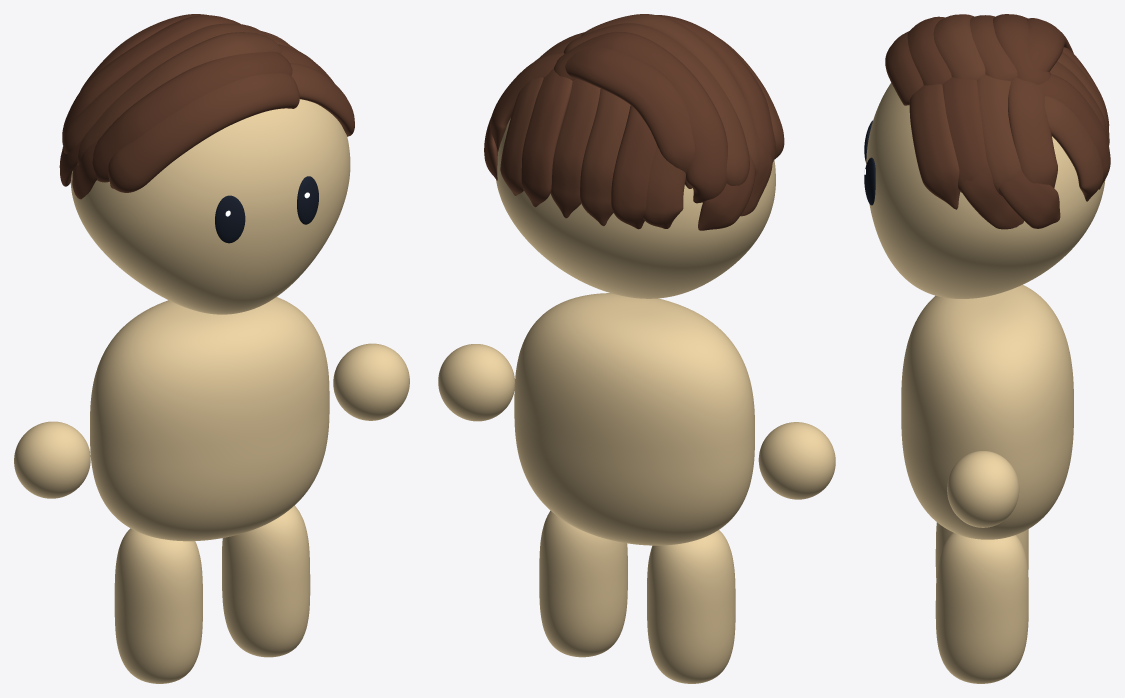
The model's file is Masculine-skin1.glb.
The picture shows the model from 3 angles, left to right: view 1: azimuth 30°, elevation 25°; view 2: azimuth 150°, elevation 25°; view 3: azimuth 270°, elevation 25°; orthographic projection.
Parts seen in each view (by area): view 1: Skin / compact torso, Skin / soft oval head, Skin / leg -1, Skin / leg 1, Hair / Side part main 0, Hair / Side part main 1, Skin / hand -1, Skin / hand 1, Hair / Side part main 2, Hair / Side part main 3, Hair / Side part main 4, Hair / Side part short 0 (+4 smaller); view 2: Skin / compact torso, Skin / soft oval head, Skin / leg -1, Skin / leg 1, Hair / Side part crown, Hair / Side part main 4, Skin / hand -1, Skin / hand 1, Hair / Side part nape 2, Hair / Side part nape 4, Hair / Side part main 3, Hair / Side part nape 3 (+9 smaller); view 3: Skin / compact torso, Skin / soft oval head, Skin / leg 1, Skin / hand 1, Hair / Side part short 0, Hair / Side part short 3, Hair / Side part short 1, Hair / Side part short 2, Hair / Side part nape 5, Hair / Side part main 2, Hair / Side part low 1 1, Hair / Side part main 4 (+10 smaller).
Boxes of the visible parts, x1,y1,x2,y2 form: Skin / compact torso: [90, 297, 329, 541]; Skin / soft oval head: [70, 99, 350, 314]; Skin / leg -1: [114, 528, 202, 683]; Skin / leg 1: [222, 505, 310, 657]; Hair / Side part main 0: [108, 73, 299, 192]; Hair / Side part main 1: [92, 51, 292, 182]; Skin / hand -1: [14, 421, 90, 498]; Skin / hand 1: [333, 343, 409, 420]; Hair / Side part main 2: [77, 32, 281, 165]; Hair / Side part main 3: [63, 23, 266, 153]; Hair / Side part main 4: [62, 15, 240, 145]; Hair / Side part short 0: [290, 63, 354, 136]; Skin / compact torso: [514, 293, 754, 545]; Skin / soft oval head: [496, 118, 775, 298]; Skin / leg -1: [647, 530, 735, 683]; Skin / leg 1: [539, 511, 627, 657]; Hair / Side part crown: [565, 47, 694, 188]; Hair / Side part main 4: [554, 32, 727, 203]; Skin / hand -1: [758, 422, 835, 499]; Skin / hand 1: [438, 344, 514, 421]; Hair / Side part nape 2: [580, 88, 630, 226]; Hair / Side part nape 4: [521, 68, 572, 207]; Hair / Side part main 3: [563, 23, 749, 185]; Hair / Side part nape 3: [550, 79, 600, 218]; Skin / compact torso: [901, 284, 1073, 539]; Skin / soft oval head: [866, 83, 1105, 298]; Skin / leg 1: [935, 532, 1028, 683]; Skin / hand 1: [947, 451, 1019, 527]; Hair / Side part short 0: [909, 84, 960, 209]; Hair / Side part short 3: [1008, 77, 1057, 187]; Hair / Side part short 1: [942, 77, 986, 192]; Hair / Side part short 2: [977, 74, 1021, 195]; Hair / Side part nape 5: [1044, 95, 1103, 201]; Hair / Side part main 2: [933, 14, 985, 80]; Hair / Side part low 1 1: [999, 170, 1060, 228]; Hair / Side part main 4: [993, 14, 1050, 84].
Size of the model in its own units: 1.49 by 2.34 by 0.8319.
